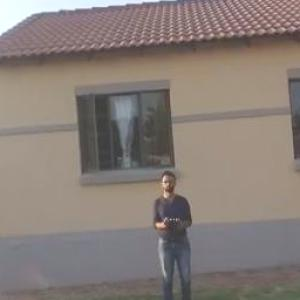follow: (148, 166, 200, 299)
